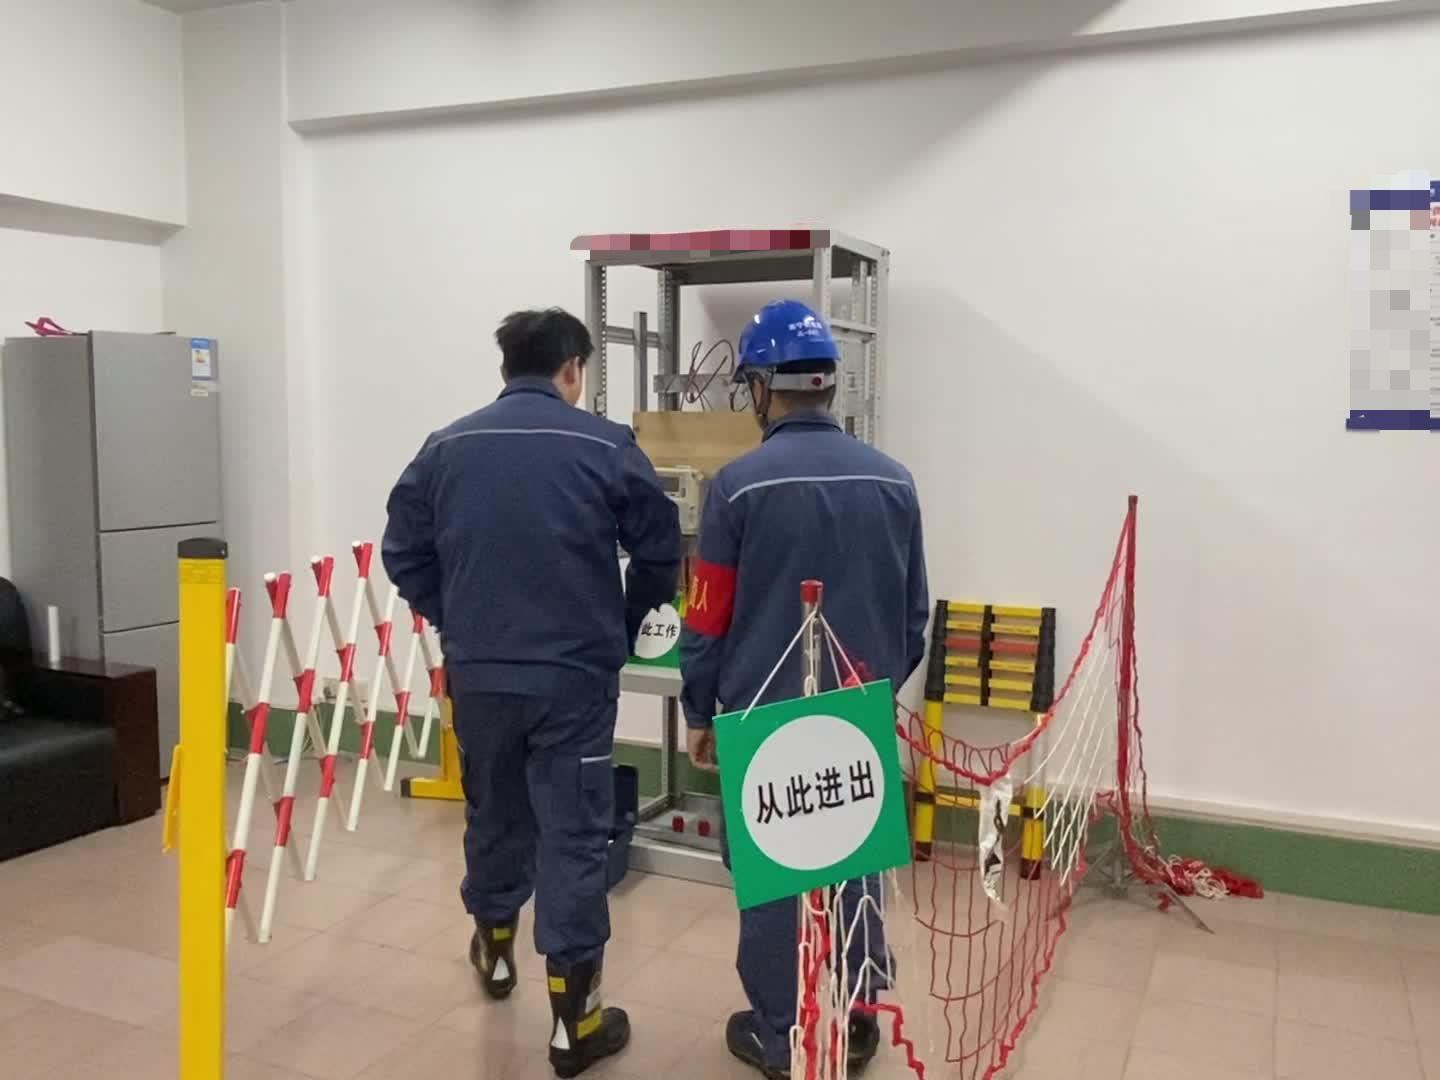halt: (735, 299, 847, 427)
inear: (742, 372, 779, 427)
noear: (559, 348, 588, 400)
unhalt: (495, 313, 600, 400)
